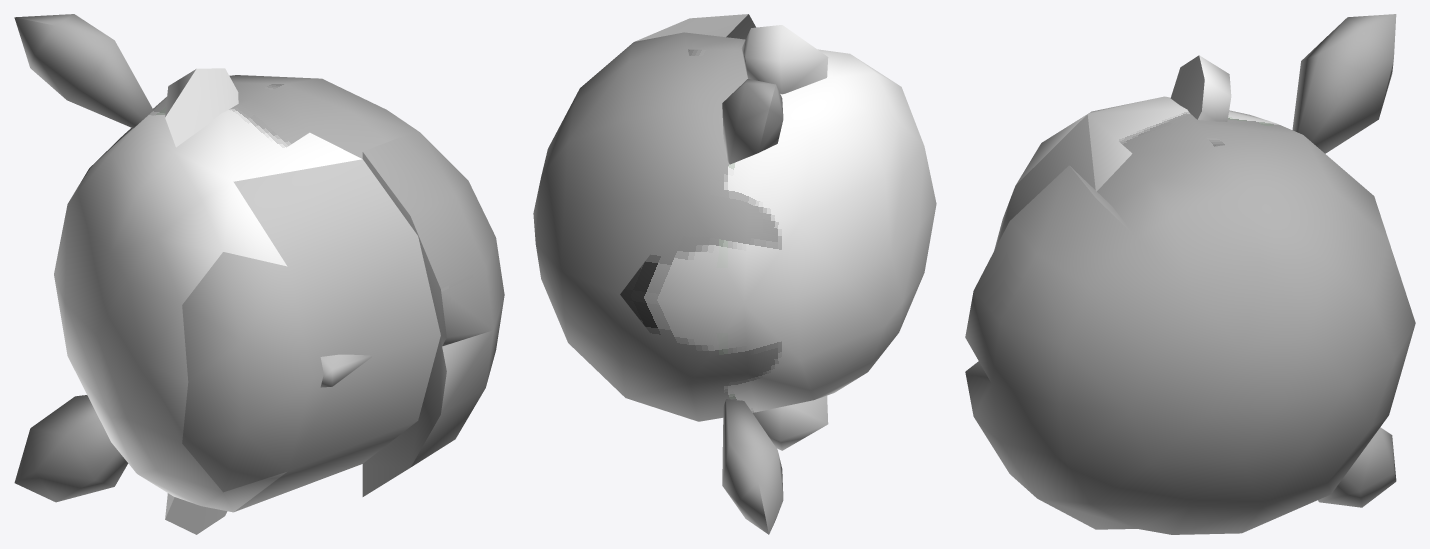
Rendered from girl14a.dae.
3 renders of one model, left to right at view 1: azimuth 30°, elevation 25°; view 2: azimuth 150°, elevation 25°; view 3: azimuth 270°, elevation 25°, orthographic. The views are drawn at different scales.
Visible parts, largest first — view 1: vsn_mesh_0_, vsn_mesh_1_, vsn_mesh_2_; view 2: vsn_mesh_0_; view 3: vsn_mesh_0_, vsn_mesh_1_.
Part boxes in pixels (x1,y1,x2,y2): vsn_mesh_0_: (14,14,504,534); vsn_mesh_1_: (233,159,440,511); vsn_mesh_2_: (182,252,312,492); vsn_mesh_0_: (533,14,936,534); vsn_mesh_0_: (965,14,1415,534); vsn_mesh_1_: (998,114,1095,242).
Size of the model in its own units: 21.62 by 27.31 by 23.31.
Materials: 3 (1 with a texture image).
